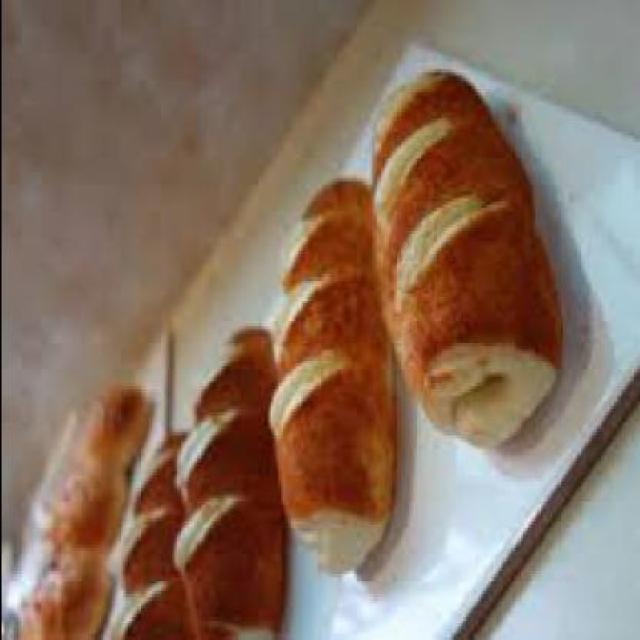BIODEGRADABLE: (376, 72, 560, 445), (270, 181, 398, 572), (174, 324, 285, 640), (21, 386, 150, 640), (102, 435, 189, 640)
